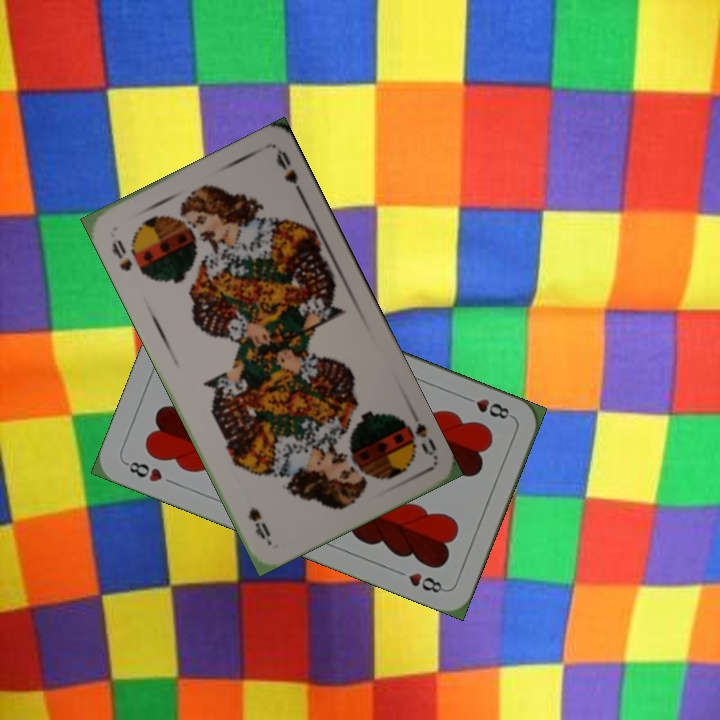H8: (459, 392, 516, 422), (121, 457, 165, 485)
SO: (395, 405, 440, 460), (107, 235, 135, 274)
